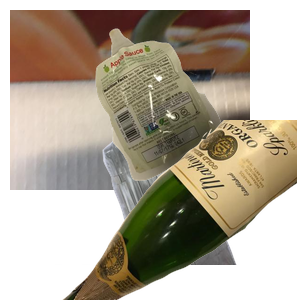cardboard: (10, 10, 250, 190)
glass: (60, 120, 300, 300)
plastic: (55, 120, 284, 300)
trash: (93, 26, 300, 200)
